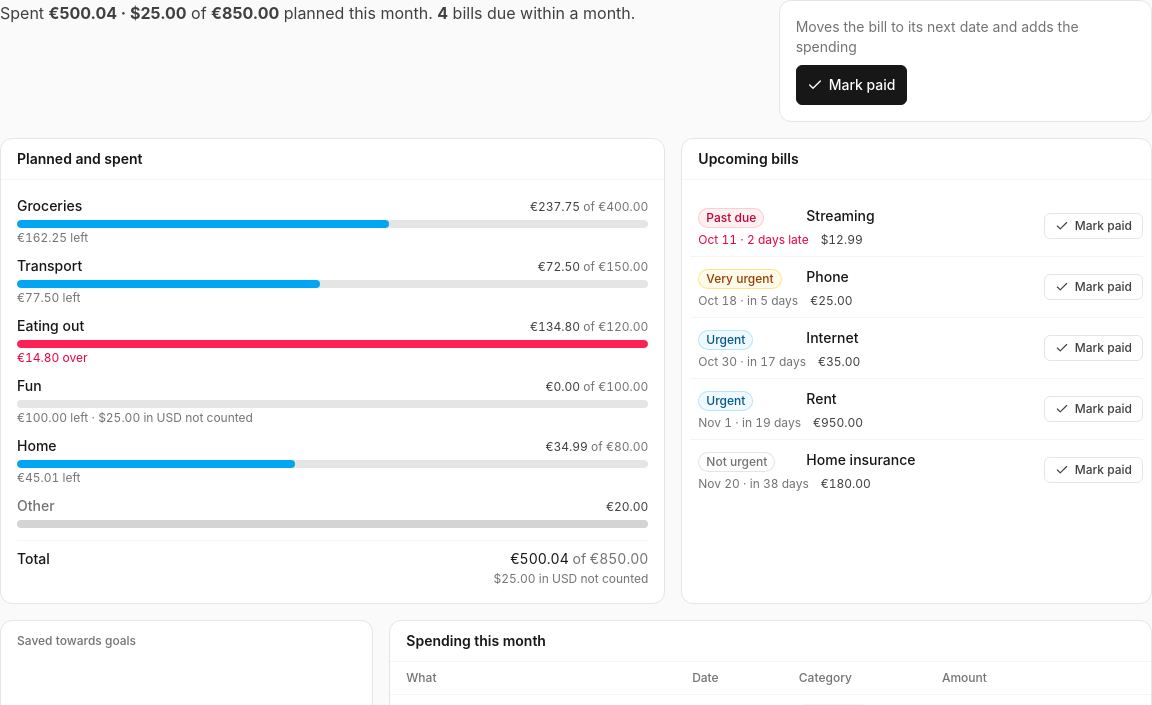
Test: Mark paid (Money) › a failure keeps what was typed and says nothing was saved
This screenshot has width=1152, height=705.
What coordinates should you click on to do the following:
click the button with aria-label "Mark paid: Phone"
I would click on:
 (1093, 287)
Its box is [1044, 274, 1143, 300].
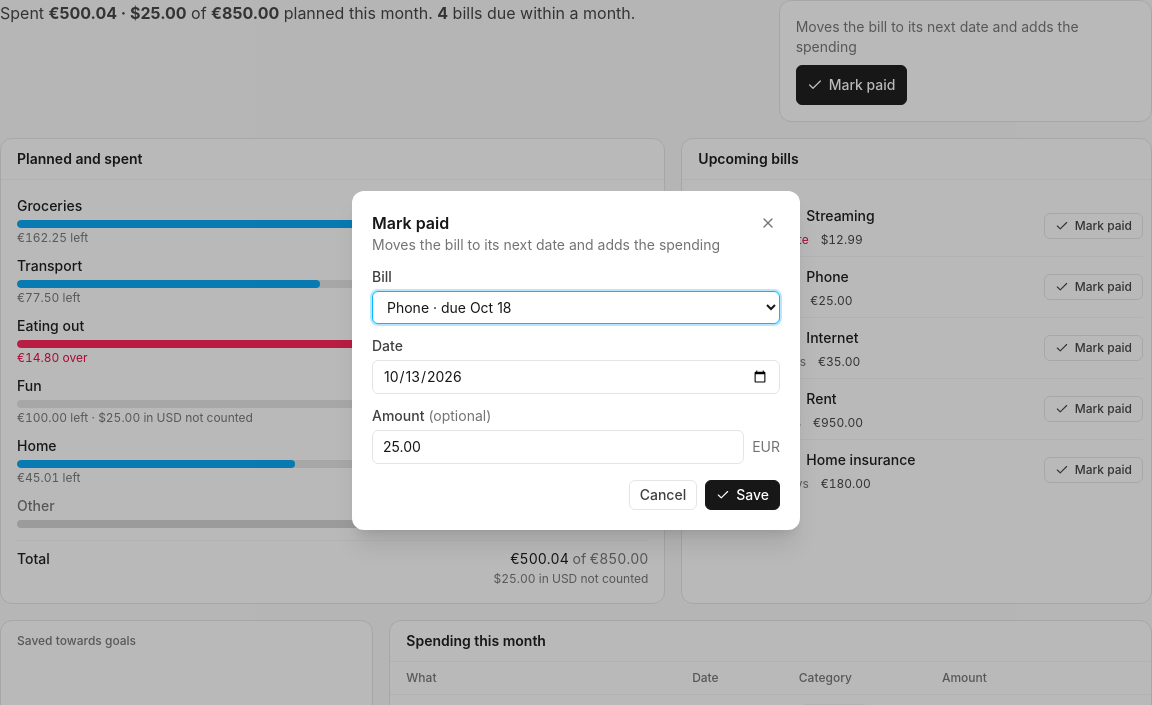
What coordinates should you click on to do the following:
click the button "Save"
I would click on:
 (743, 494)
Its box is [705, 480, 780, 510].
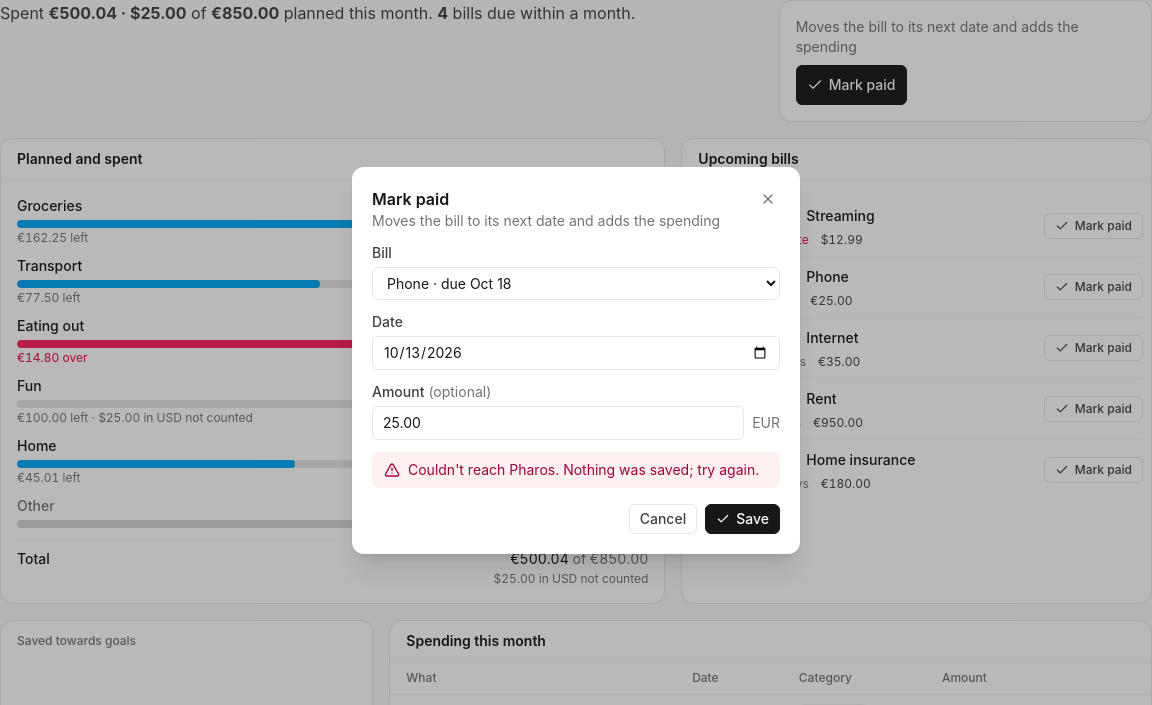
Expected: the dropdown labelled "Bill" shows "Phone · due Oct 18", [372, 266, 780, 300]
Expected: the message shows "Nothing was saved; try again", [408, 460, 759, 478]
